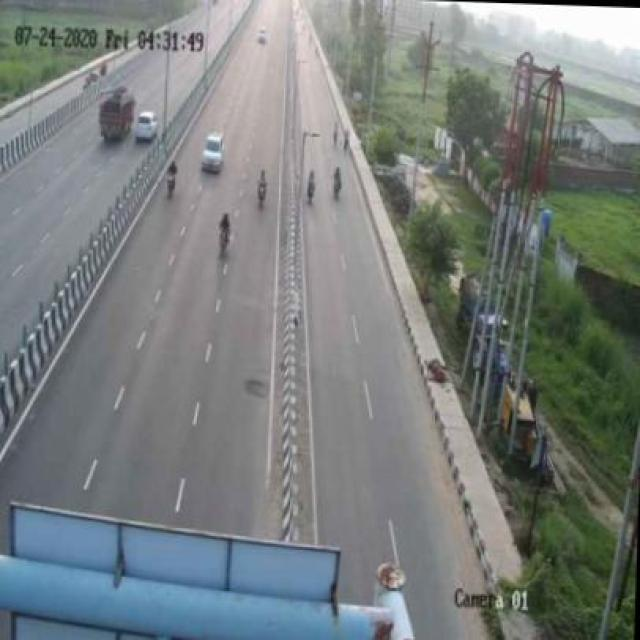car: (202, 116, 233, 190)
